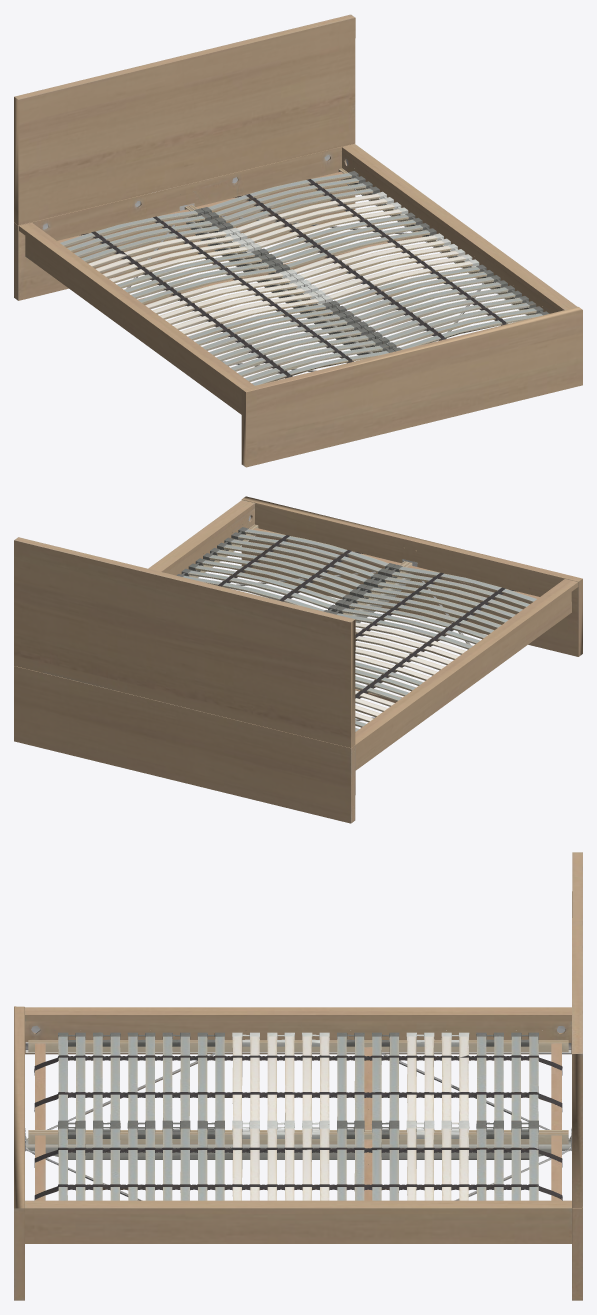
Rendered from 05 - MALM Bed frame, high - white stained oak veneerLönset 160x200 cm.glb.
The picture shows the model from 3 angles, top to bottom: view 1: azimuth 30°, elevation 25°; view 2: azimuth 150°, elevation 25°; view 3: azimuth 270°, elevation 25°; orthographic projection. The views are drawn at different scales.
Visible parts, largest first — view 1: Mesh_0; view 2: Mesh_0; view 3: Mesh_0.
Boxes of the visible parts, bbox=[...] form: Mesh_0: bbox=[14, 14, 582, 467]; Mesh_0: bbox=[14, 496, 582, 823]; Mesh_0: bbox=[14, 852, 582, 1300].
Bounding box in the file's own units: 1.75 × 1 × 2.09.
1 material, 1 textured.
